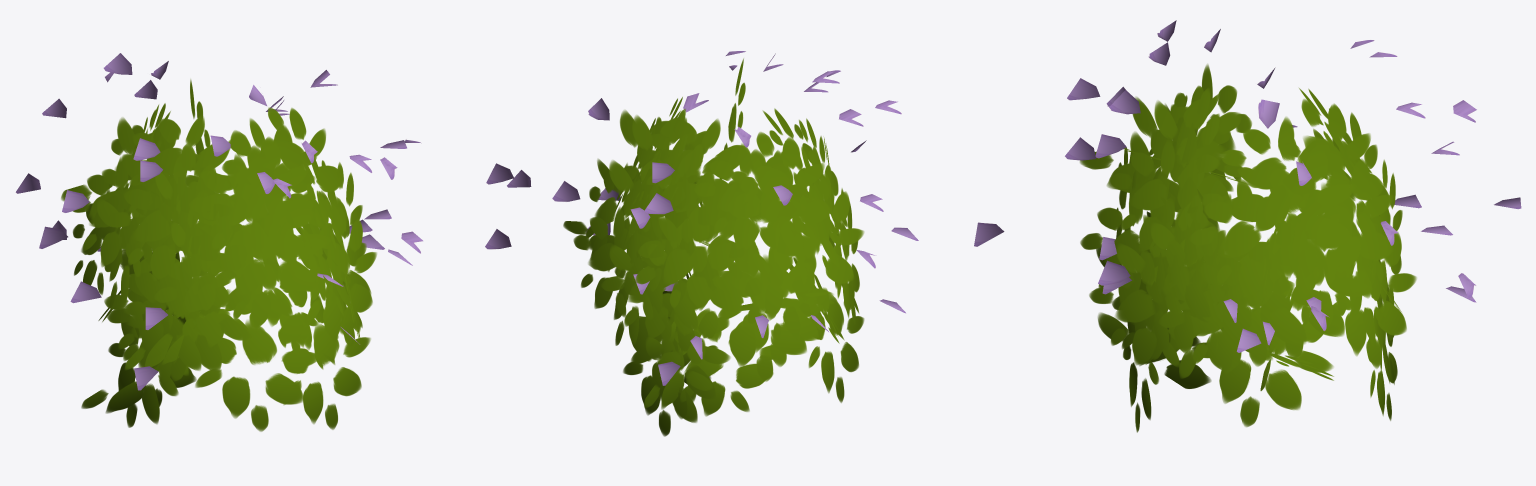
The model's file is bush_3-0tPyAoaL.glb.
3 renders of one model, left to right at view 1: azimuth 30°, elevation 25°; view 2: azimuth 150°, elevation 25°; view 3: azimuth 270°, elevation 25°, orthographic. The views are drawn at different scales.
Visible parts, largest first — view 1: Bush_Common_Flowers; view 2: Bush_Common_Flowers; view 3: Bush_Common_Flowers.
Part boxes in pixels (x1,y1,x2,y2): Bush_Common_Flowers: (16,53,422,431); Bush_Common_Flowers: (485,51,918,436); Bush_Common_Flowers: (974,20,1521,432).
Bounding box in the file's own units: 1.76 × 1.54 × 1.88.
Materials: 2 (2 with a texture image).
